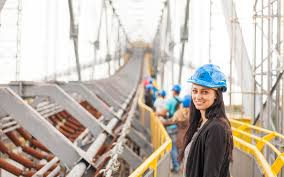hard hat: (186, 64, 228, 91), (170, 83, 181, 92)
